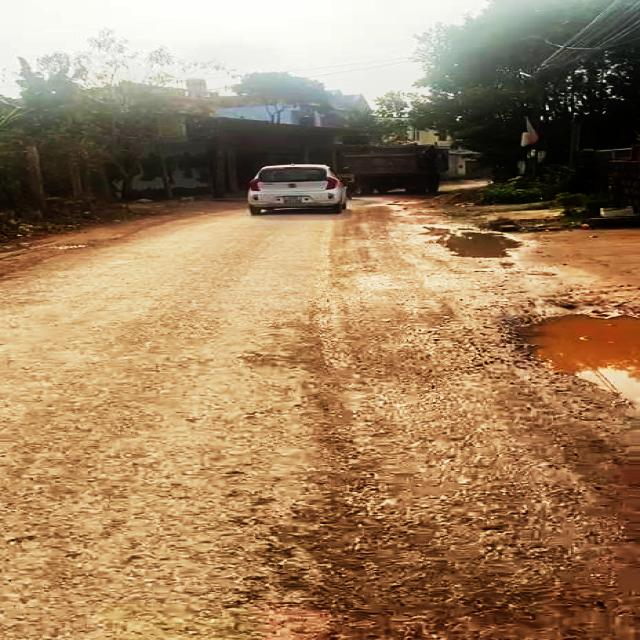pothole: (511, 309, 640, 407), (425, 227, 527, 258)
